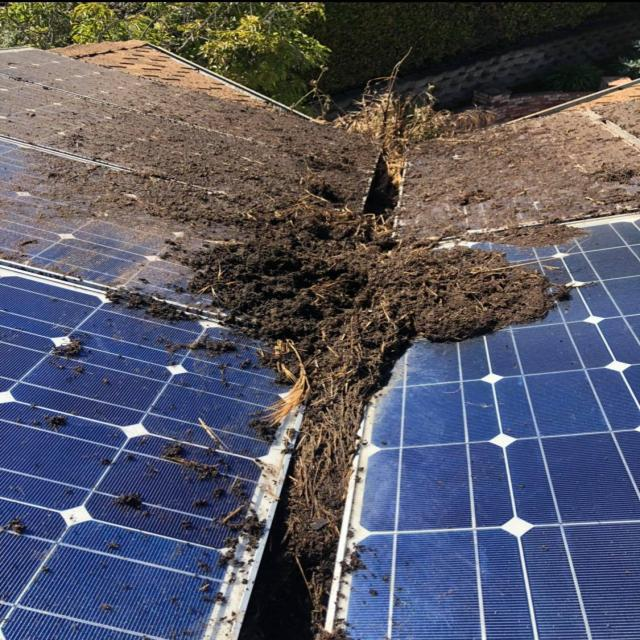dust-solar-panel: (0, 43, 640, 639)
